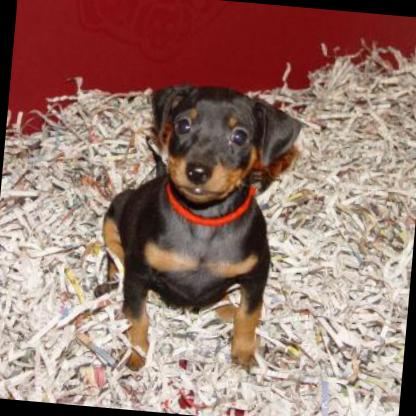miniature_pinscher: (86, 70, 304, 383)
